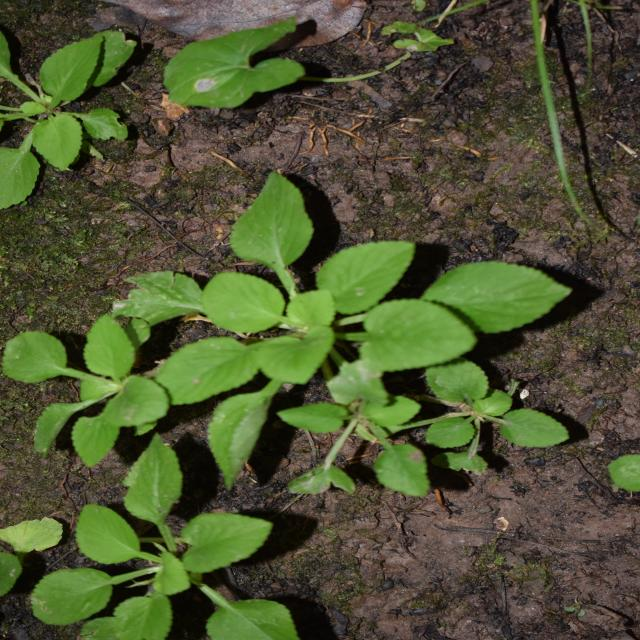Viola: (146, 123, 422, 539)
